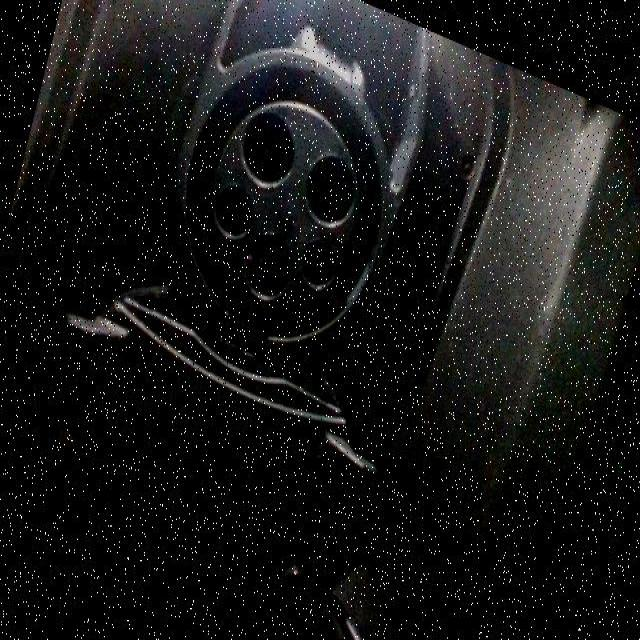Type 1: (170, 19, 394, 345)
